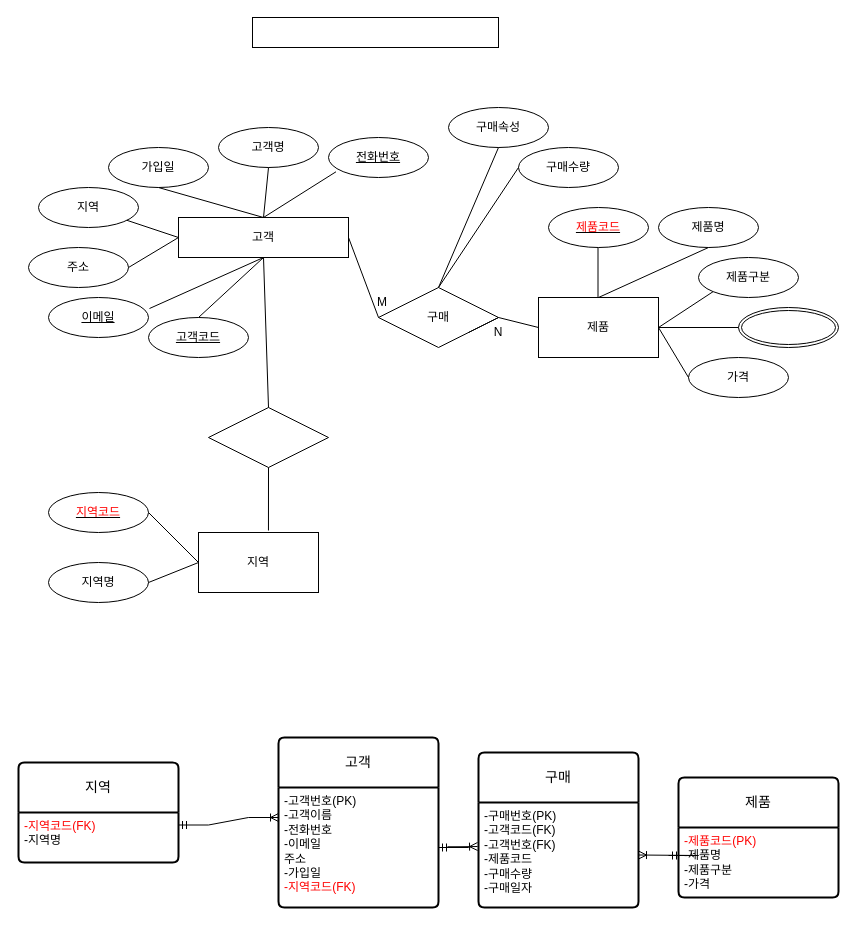
Some shapes in this 856 by 926 pixel diagram are drawn without their labels. Each missing label, with the centre of its shape:
Logical Data Modeling(RM) : 논리적 모델링: the point at 375,32
관리: the point at 268,437
제품색상: the point at 788,327
